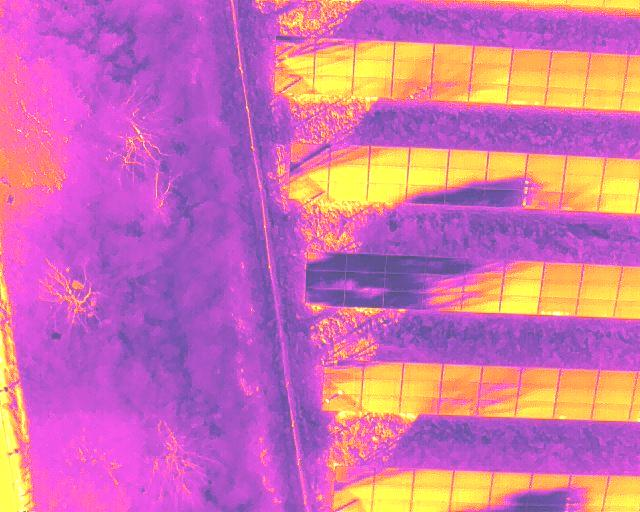Cell: (553, 403, 593, 420), (323, 379, 362, 395)
Cell-Multi: (507, 85, 546, 105), (322, 395, 362, 413), (539, 297, 576, 316)
No-Anomaly: (393, 59, 433, 79), (527, 154, 567, 174), (329, 182, 369, 202), (509, 66, 548, 86), (313, 76, 352, 96), (488, 152, 527, 172), (580, 281, 619, 301), (546, 87, 583, 108), (605, 158, 640, 180), (353, 58, 393, 77), (587, 71, 625, 91), (408, 148, 448, 167), (582, 264, 621, 283), (502, 277, 541, 296), (549, 67, 586, 87), (368, 184, 405, 204), (566, 157, 604, 176), (432, 63, 470, 82), (471, 64, 509, 83), (353, 77, 391, 96), (474, 46, 512, 65), (402, 380, 440, 399), (442, 365, 482, 383), (470, 84, 507, 103), (584, 90, 621, 109), (502, 295, 539, 314), (408, 167, 447, 185), (314, 58, 353, 76), (403, 364, 442, 382), (597, 371, 636, 389), (452, 470, 493, 487), (493, 471, 531, 489), (589, 54, 627, 72), (541, 279, 579, 297), (521, 368, 559, 386), (577, 299, 617, 316), (329, 166, 368, 183), (551, 51, 590, 68), (448, 152, 487, 169), (564, 176, 603, 193), (543, 262, 582, 279), (363, 363, 402, 380), (557, 387, 596, 404), (368, 166, 406, 183), (434, 44, 472, 61), (513, 50, 551, 67), (600, 195, 638, 212), (559, 370, 597, 387), (362, 394, 400, 411), (520, 386, 557, 403), (516, 401, 553, 418), (363, 380, 402, 396), (414, 469, 453, 485), (602, 178, 638, 195), (596, 388, 632, 405), (412, 486, 450, 502), (569, 474, 606, 490), (594, 404, 631, 420), (452, 487, 491, 502), (373, 486, 412, 501), (394, 44, 433, 58), (606, 475, 639, 490), (531, 474, 568, 487)
Shadowing: (290, 162, 329, 182), (430, 81, 469, 101), (330, 146, 369, 166), (462, 294, 502, 313), (323, 360, 363, 379), (481, 366, 521, 385), (440, 382, 480, 401), (276, 37, 314, 57), (315, 38, 355, 57), (307, 251, 346, 270), (307, 270, 346, 289), (424, 273, 463, 292), (336, 467, 375, 486), (369, 147, 407, 166), (445, 189, 485, 207), (345, 272, 385, 290), (344, 289, 384, 307), (422, 293, 462, 311), (446, 170, 485, 188), (524, 175, 563, 193), (275, 57, 314, 75), (274, 76, 313, 94), (406, 186, 445, 204), (561, 193, 600, 211), (463, 276, 504, 293), (392, 80, 428, 99), (292, 144, 330, 162), (355, 41, 395, 58), (289, 182, 329, 199), (521, 192, 561, 209), (346, 254, 386, 271), (385, 256, 425, 273), (437, 399, 479, 415), (486, 172, 525, 189), (485, 190, 524, 207), (466, 258, 505, 275), (384, 275, 425, 291), (375, 469, 413, 486), (426, 257, 466, 273), (478, 385, 518, 401), (307, 289, 344, 306), (506, 262, 544, 278), (399, 397, 439, 412), (384, 292, 421, 308), (490, 489, 531, 503), (335, 485, 373, 500), (567, 490, 605, 505), (478, 401, 515, 416), (531, 488, 566, 503)
